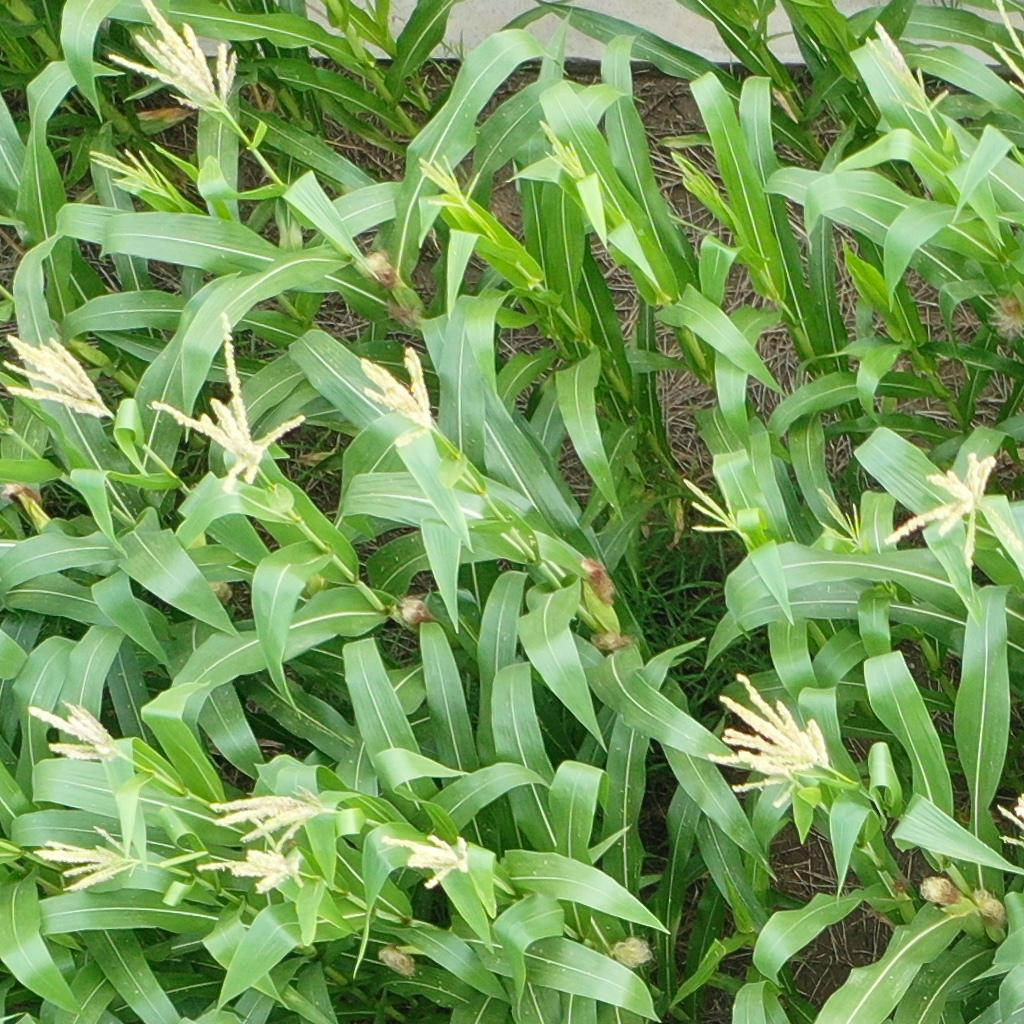Tassel: (150, 310, 308, 495), (885, 453, 1023, 568), (107, 1, 243, 113), (718, 669, 836, 773), (1, 325, 118, 421), (352, 346, 441, 451), (866, 18, 952, 117), (210, 786, 332, 852), (35, 825, 141, 892), (380, 822, 474, 892), (26, 699, 126, 762), (709, 749, 807, 806), (198, 839, 303, 892), (87, 142, 172, 199), (678, 467, 741, 534), (417, 154, 484, 212), (813, 485, 866, 554), (540, 120, 590, 178), (993, 1, 1024, 90), (671, 149, 711, 196), (993, 790, 1024, 848)
